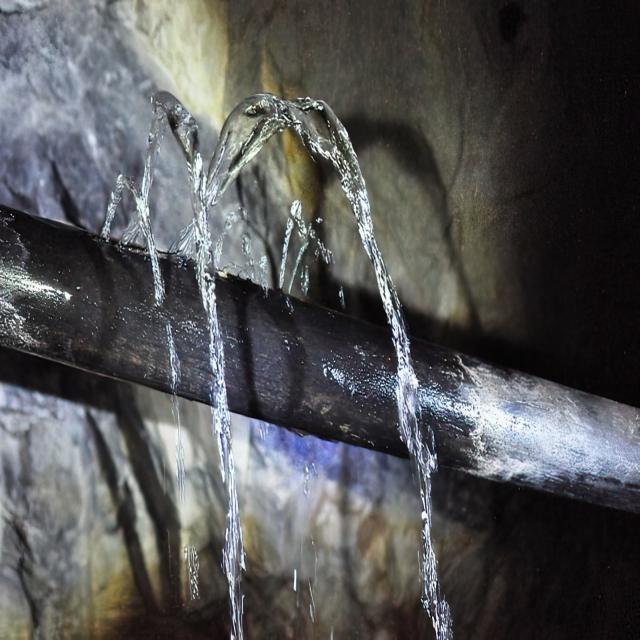leak: (101, 91, 451, 639), (279, 199, 332, 294), (235, 238, 268, 292), (166, 322, 180, 398)
